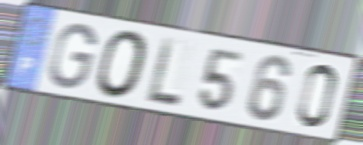0: (297, 62, 338, 130)
5: (198, 47, 247, 113)
6: (245, 53, 291, 123)
G: (46, 21, 99, 92)
L: (146, 34, 183, 108)
O: (95, 28, 150, 101)
